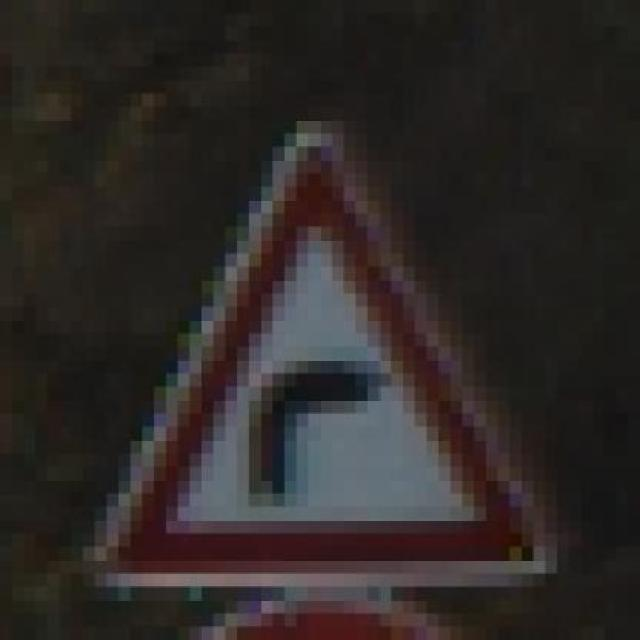Dangerous Rright Curve Ahead: (71, 93, 557, 601)
